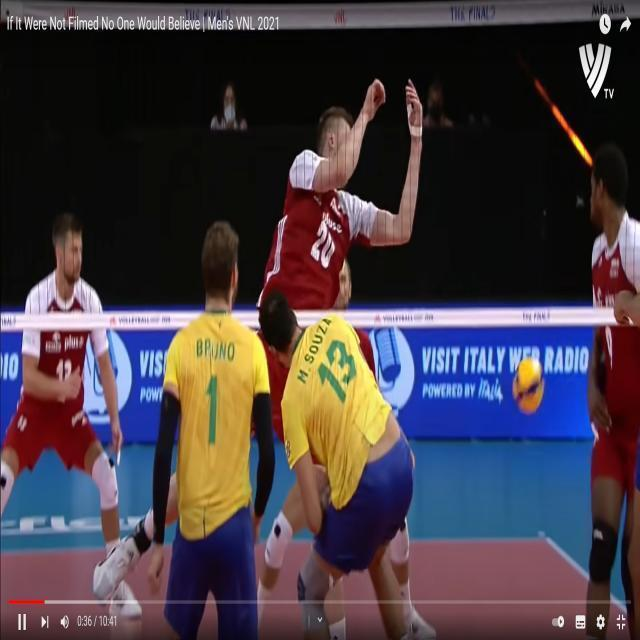volleyball: (512, 358, 544, 414)
